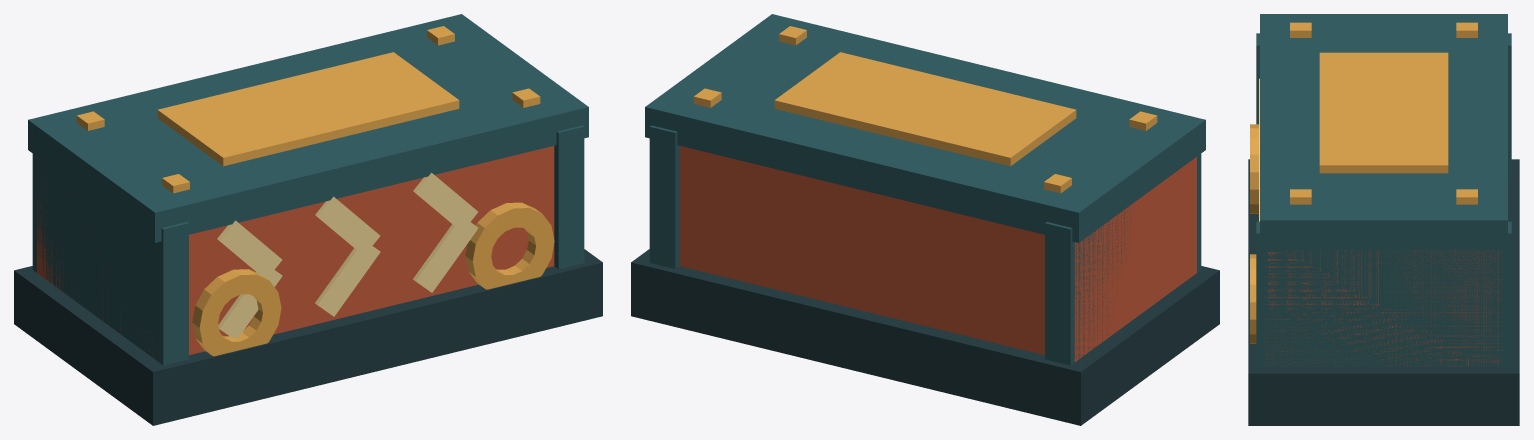
Rendered from slider.glb.
3 views of the same model, side by side, from view 1: azimuth 30°, elevation 25°; view 2: azimuth 150°, elevation 25°; view 3: azimuth 270°, elevation 25° (orthographic). The views are drawn at different scales.
Visible parts, largest first — view 1: LOD0; view 2: LOD0; view 3: LOD0.
Boxes of the visible parts, box(x1,y1,x2,y2) form: LOD0: box(14, 14, 602, 425); LOD0: box(631, 14, 1219, 425); LOD0: box(1248, 14, 1519, 425).
Size of what is drawn, in the model's own units: 2.8 by 1.28 by 1.5.
